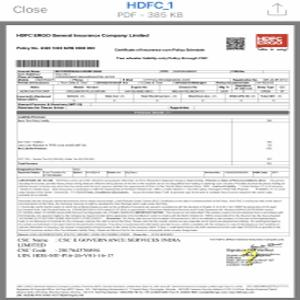image: (255, 33, 290, 50)
table: (16, 111, 290, 179), (17, 67, 292, 108)
text: (15, 178, 289, 237), (17, 237, 183, 259), (113, 44, 212, 64), (14, 29, 152, 39), (14, 43, 97, 53)
